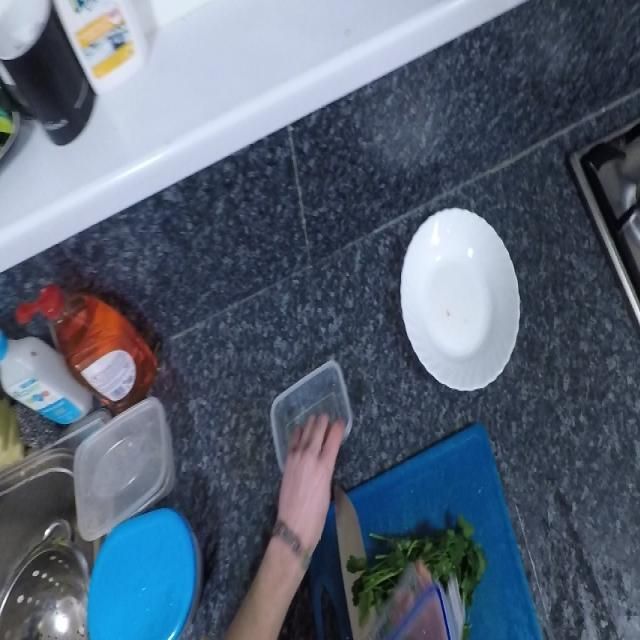container: (73, 402, 172, 516)
dish soap: (17, 287, 152, 399)
left hand: (277, 414, 341, 568)
plate: (392, 198, 526, 406)
